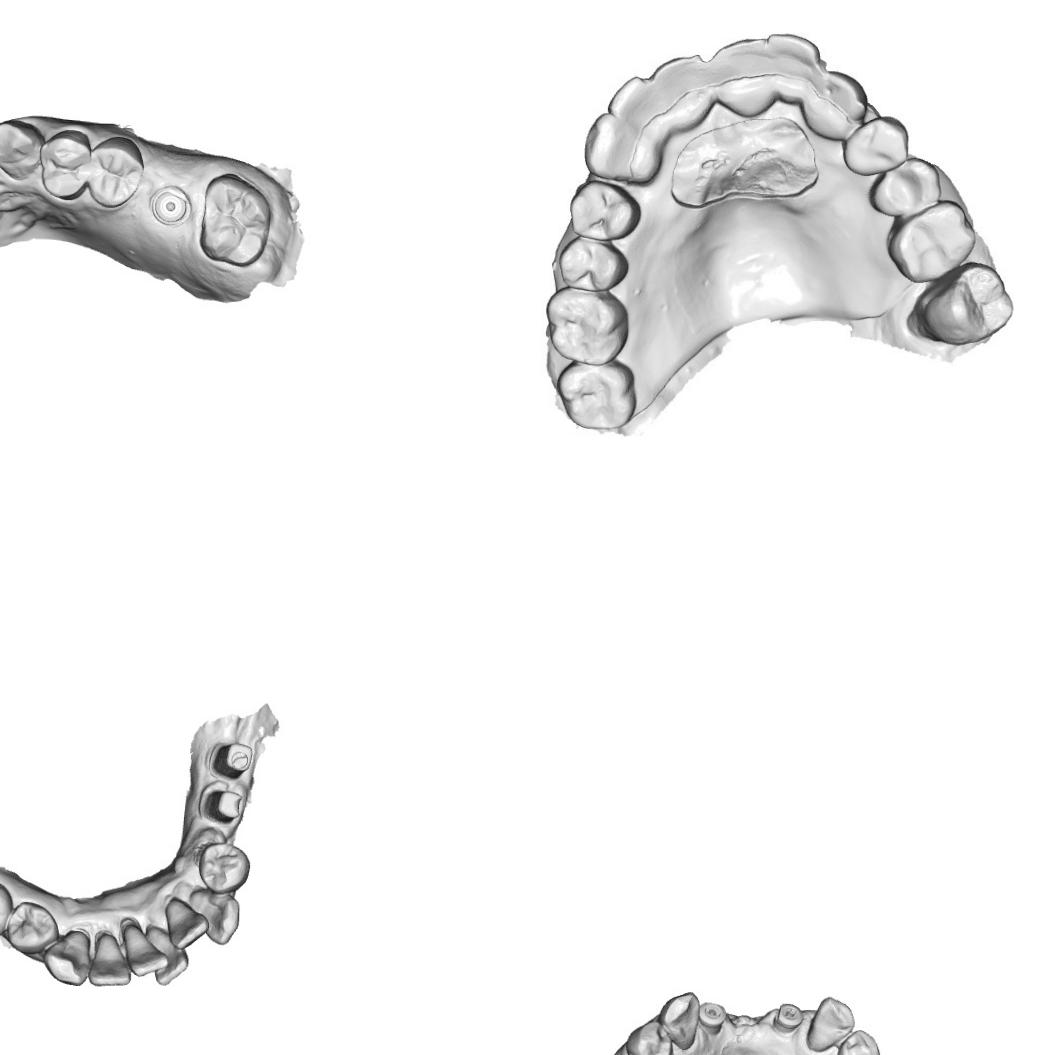abutment: (210, 735, 254, 786), (203, 786, 248, 824)
canine: (584, 110, 658, 190), (810, 69, 866, 134), (187, 887, 242, 946), (42, 928, 96, 987), (805, 994, 856, 1054), (0, 117, 44, 182), (656, 990, 700, 1052)
implant: (149, 183, 193, 230)
implant_minus: (696, 1000, 728, 1037), (772, 1002, 804, 1034)
incisor: (656, 52, 717, 123), (714, 38, 774, 103), (768, 33, 822, 104), (610, 78, 671, 137), (120, 918, 168, 981), (146, 922, 188, 986), (162, 894, 210, 950), (88, 930, 132, 988)
molar: (918, 258, 1014, 350), (196, 171, 274, 270), (890, 198, 978, 281), (542, 287, 630, 363), (558, 355, 639, 437)
premolar: (565, 175, 644, 244), (87, 134, 144, 211), (872, 154, 941, 217), (843, 112, 908, 178), (555, 233, 628, 291), (36, 127, 91, 202), (198, 838, 254, 894), (5, 900, 60, 954), (624, 1020, 673, 1055), (832, 1028, 881, 1055), (0, 880, 15, 942)
